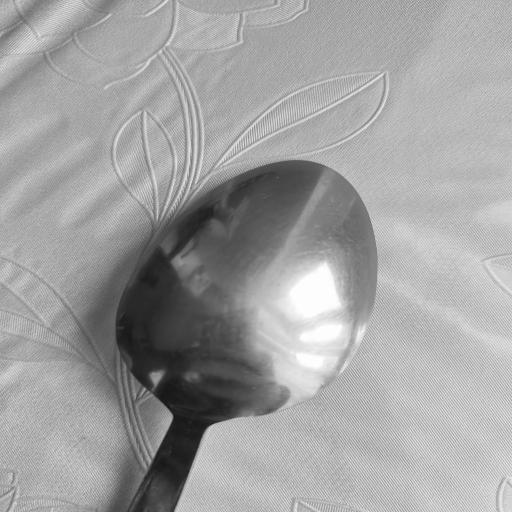spoon: (110, 156, 380, 512)
